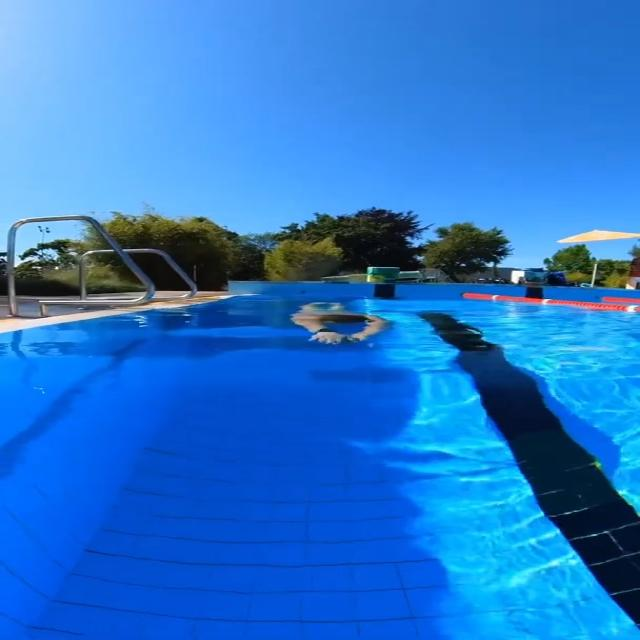Swimming: (283, 292, 397, 348)
